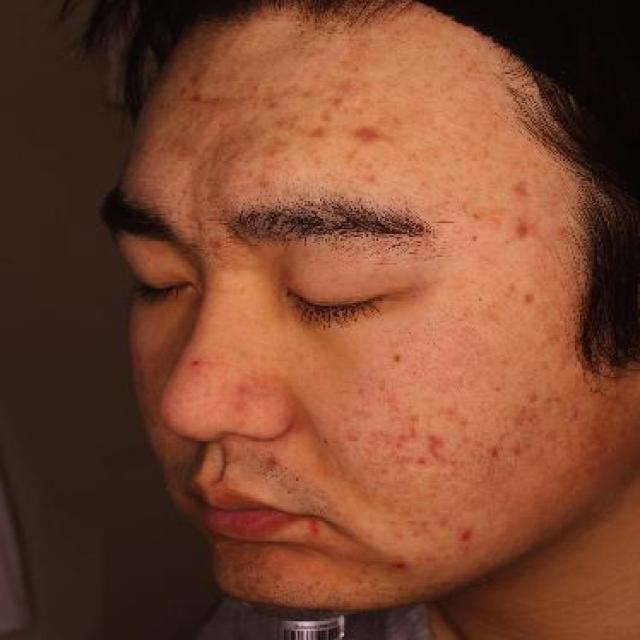blackheads: (317, 432, 337, 450)
dark spot: (502, 275, 560, 314), (346, 117, 394, 149), (445, 517, 488, 549), (506, 155, 534, 203), (424, 429, 456, 468), (512, 205, 537, 252), (258, 445, 286, 486)
